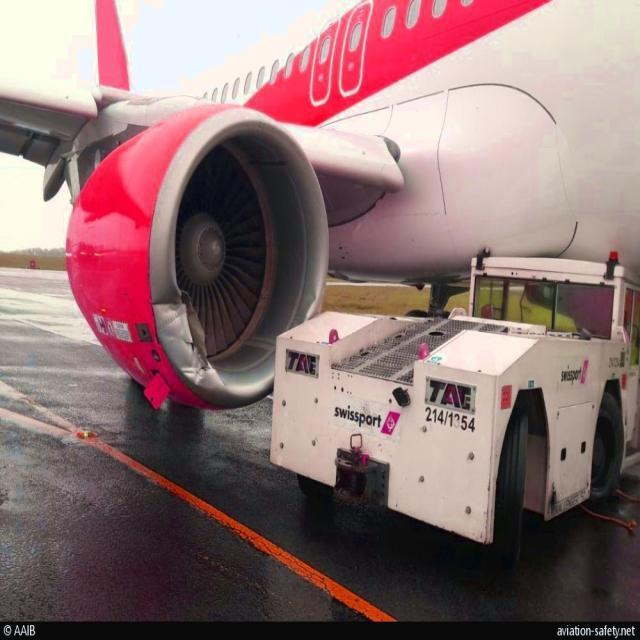crack: (179, 289, 210, 372)
dent: (153, 289, 183, 338), (177, 359, 204, 386), (303, 289, 324, 316)
